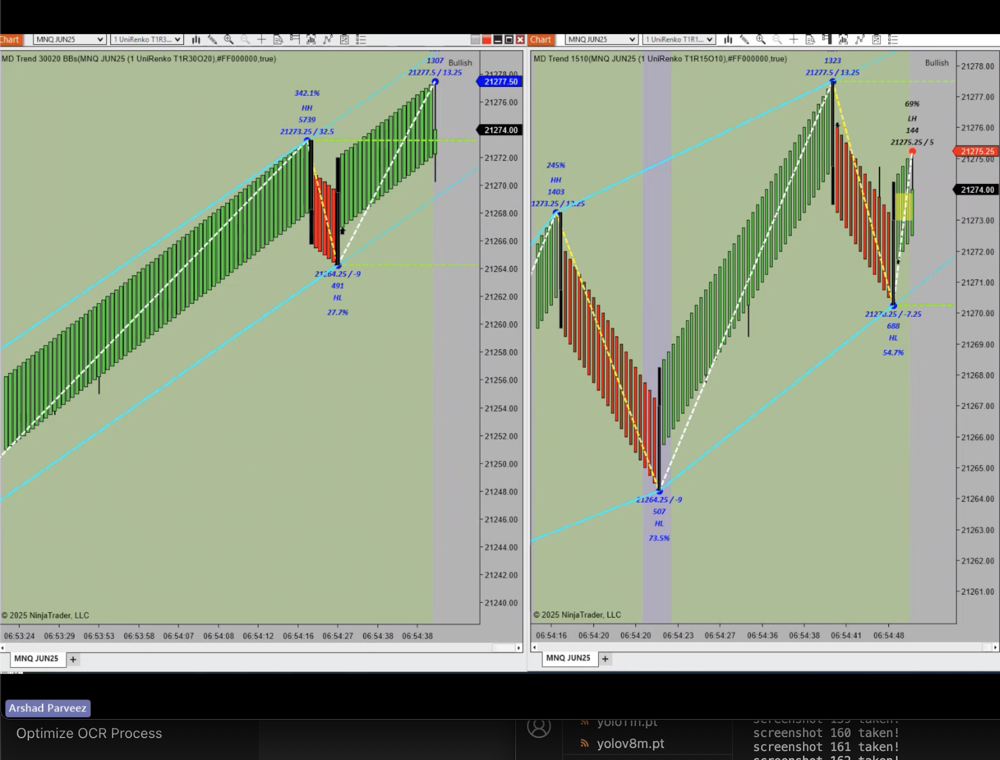HH: (543, 170, 569, 190), (296, 99, 321, 117)
HL: (646, 516, 674, 535), (882, 329, 907, 349), (329, 292, 351, 309)
LH: (899, 107, 924, 129)
